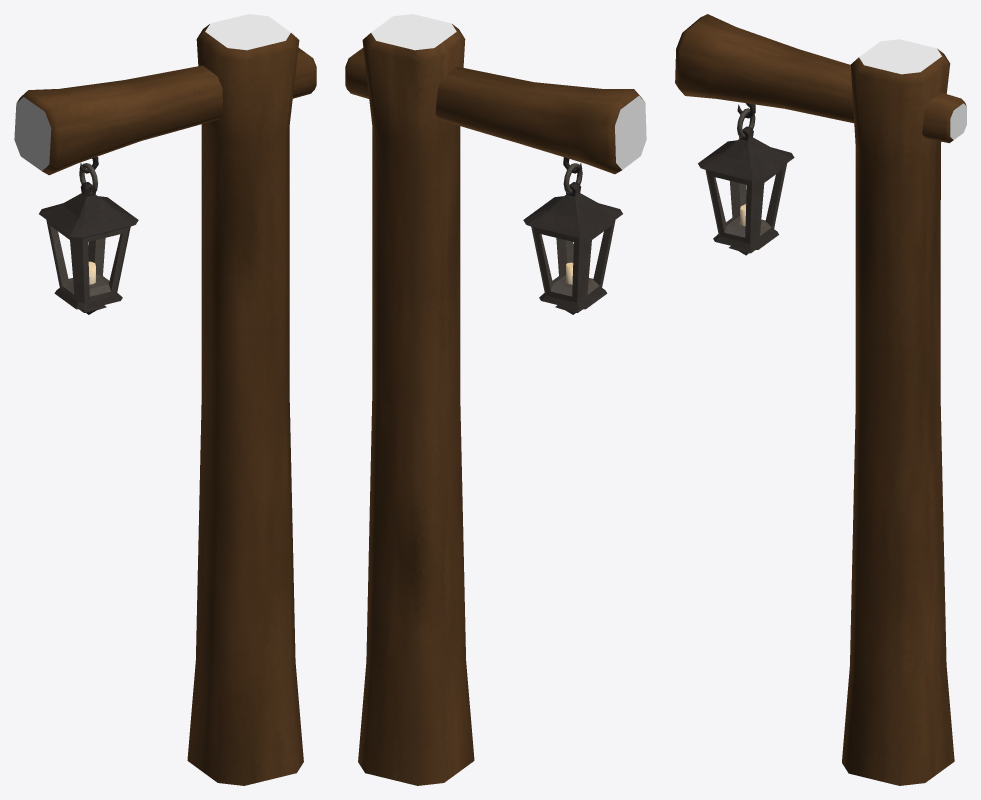
The model's file is Lamp_Post.glb.
3 renders of one model, left to right at view 1: azimuth 30°, elevation 25°; view 2: azimuth 150°, elevation 25°; view 3: azimuth 330°, elevation 25°, orthographic. The views are drawn at different scales.
Visible parts, largest first — view 1: Cube.086_Cube.275, Cube.087_Cube.276, Cube.085_Cube.274; view 2: Cube.086_Cube.275, Cube.087_Cube.276, Cube.085_Cube.274; view 3: Cube.086_Cube.275, Cube.087_Cube.276, Cube.085_Cube.274.
Part boxes in pixels (x1,y1,x2,y2): Cube.086_Cube.275: (187,14,303,785); Cube.087_Cube.276: (14,48,316,175); Cube.085_Cube.274: (39,182,138,314); Cube.086_Cube.275: (358,14,474,785); Cube.087_Cube.276: (345,48,646,174); Cube.085_Cube.274: (523,182,622,314); Cube.086_Cube.275: (842,39,954,785); Cube.087_Cube.276: (675,14,966,143); Cube.085_Cube.274: (698,126,794,255).
Size of the model in its own units: 0.8961 by 2.24 by 0.2778.
5 materials, 4 textured.
